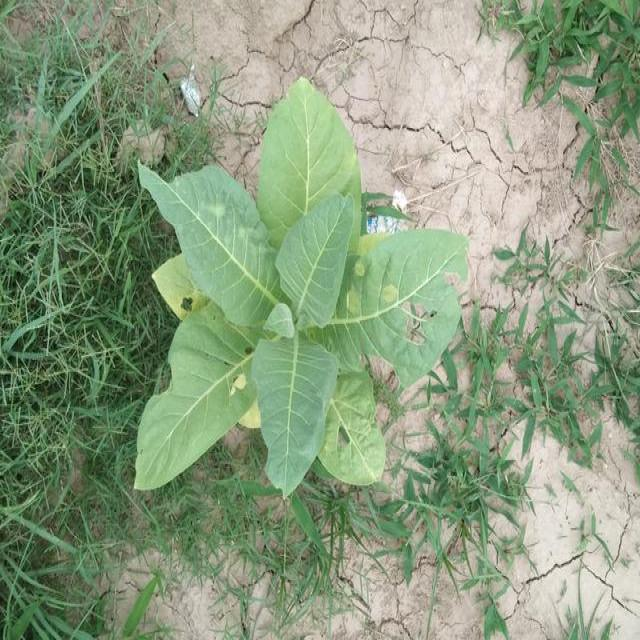crop: (129, 79, 476, 495)
